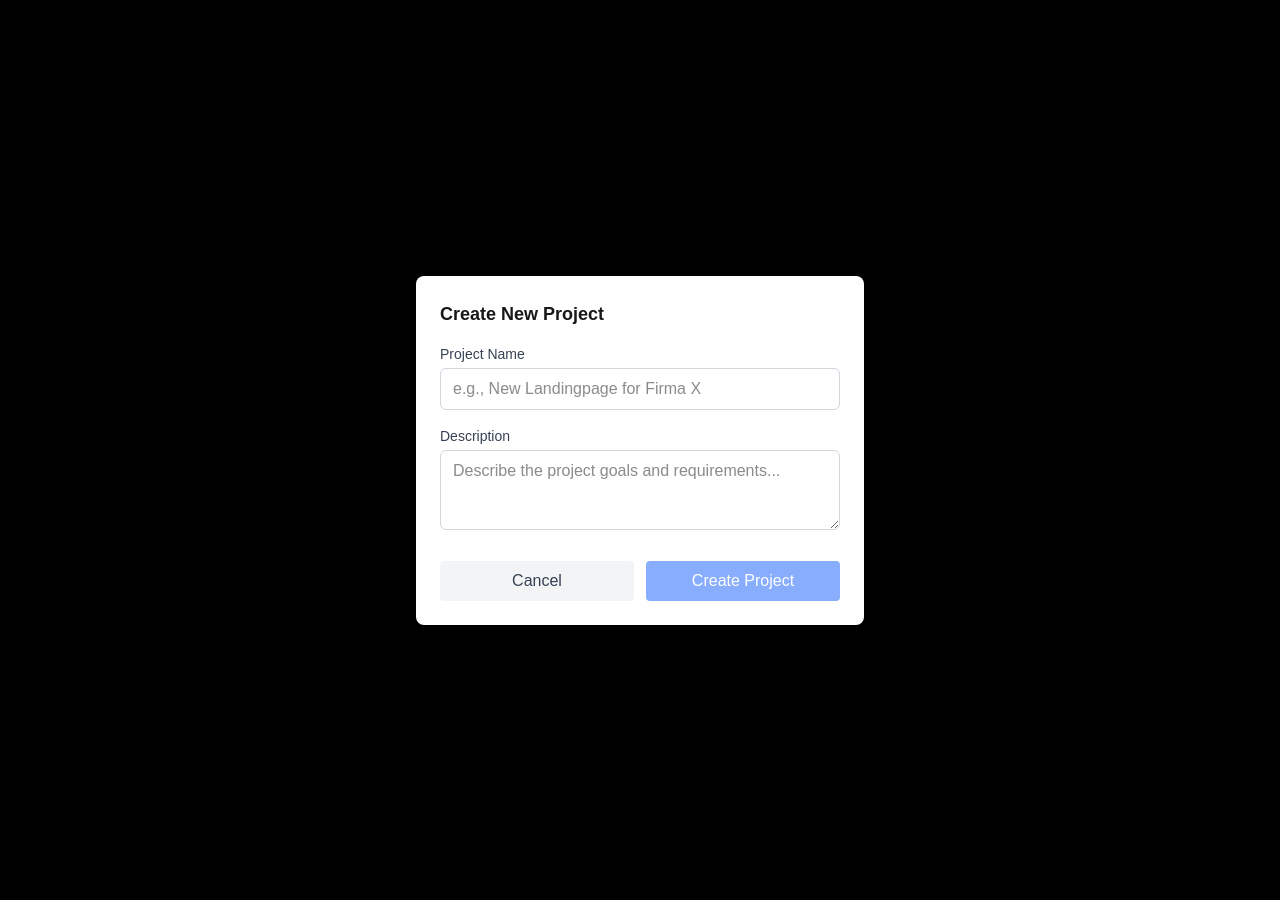
Test: CreateProjectModal › enables create button when name is provided
The width and height of the screenshot is (1280, 900).
In the field labelled "Project Name": coordinates (640, 388) [440,368,840,410], type "Test Project"
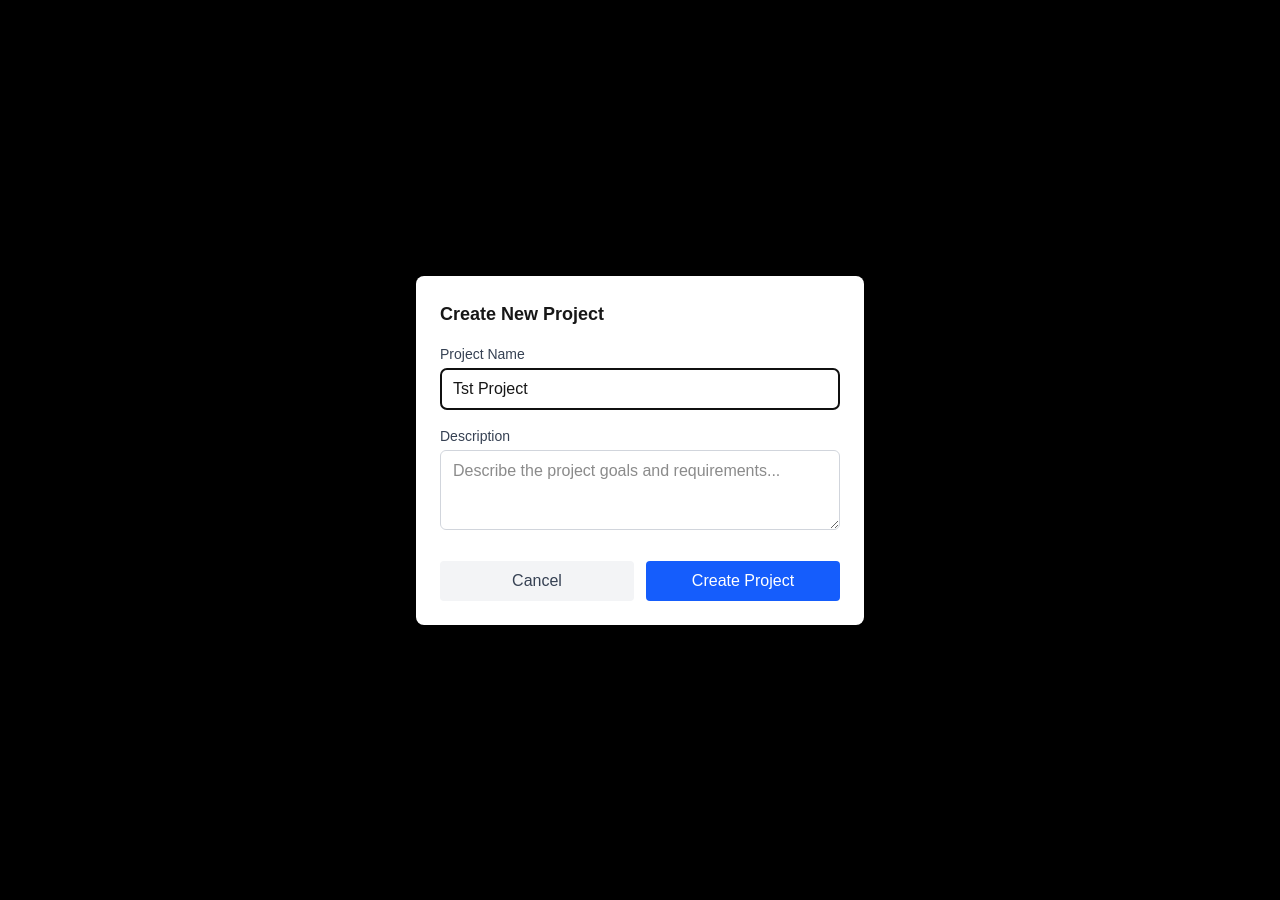
Expected: the button "Create Project" is enabled, [646,560,840,600]
